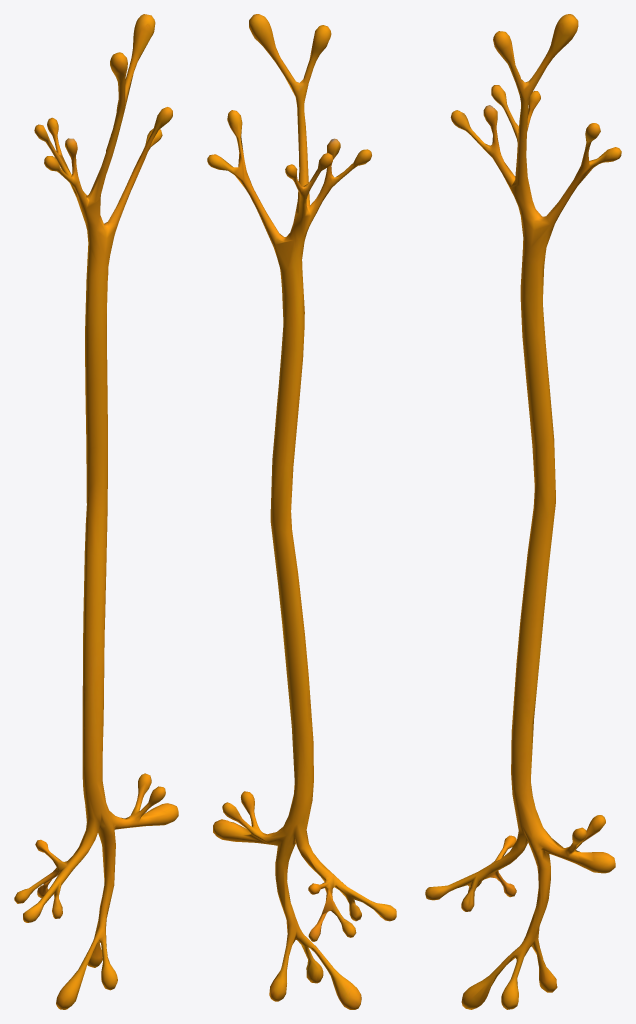
Rendered from radial-nerve.glb.
3 renders of one model, left to right at view 1: azimuth 30°, elevation 25°; view 2: azimuth 150°, elevation 25°; view 3: azimuth 330°, elevation 25°, orthographic. The views are drawn at different scales.
Visible parts, largest first — view 1: radial-nerve; view 2: radial-nerve; view 3: radial-nerve.
Boxes of the visible parts, x1,y1,x2,y2 form: radial-nerve: [14, 14, 178, 1009]; radial-nerve: [207, 14, 396, 1009]; radial-nerve: [425, 14, 621, 1009].
Bounding box in the file's own units: 0.1815 × 1 × 0.1053.
Materials: 1 (1 with a texture image).
